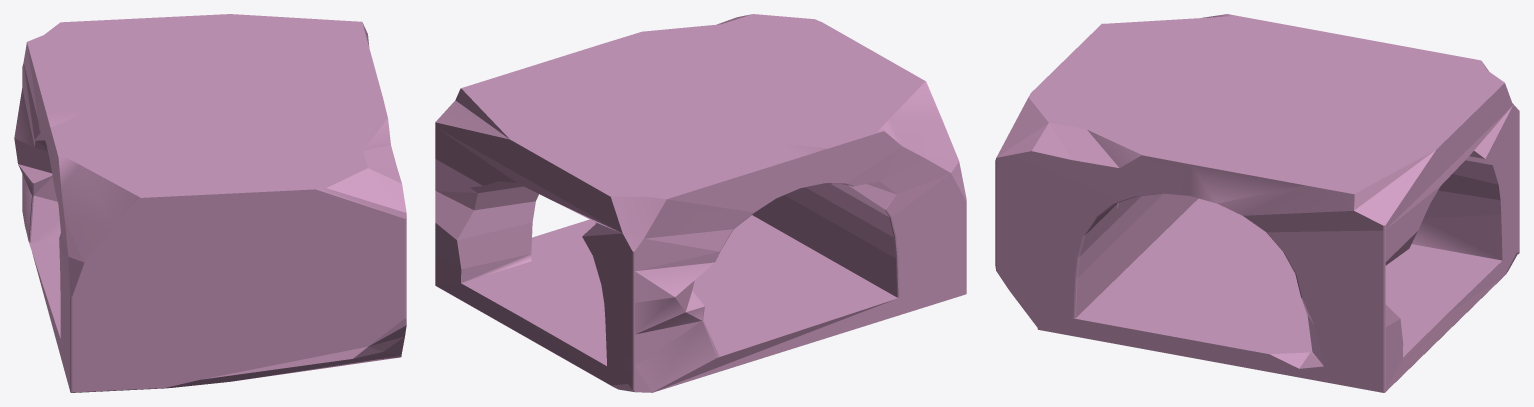
Rendered from chatka_final.fbx.
3 views of the same model, side by side, from view 1: azimuth 30°, elevation 25°; view 2: azimuth 150°, elevation 25°; view 3: azimuth 270°, elevation 25° (orthographic). The views are drawn at different scales.
Parts seen in each view (by area): view 1: kocia_chatka_dwa_drzwi_splaszczona; view 2: kocia_chatka_dwa_drzwi_splaszczona; view 3: kocia_chatka_dwa_drzwi_splaszczona.
Part boxes in pixels (bbox=[...]): kocia_chatka_dwa_drzwi_splaszczona: bbox=[14, 14, 406, 392]; kocia_chatka_dwa_drzwi_splaszczona: bbox=[435, 14, 966, 392]; kocia_chatka_dwa_drzwi_splaszczona: bbox=[995, 14, 1519, 392].
Size of the model in its own units: 445 by 198 by 486.
